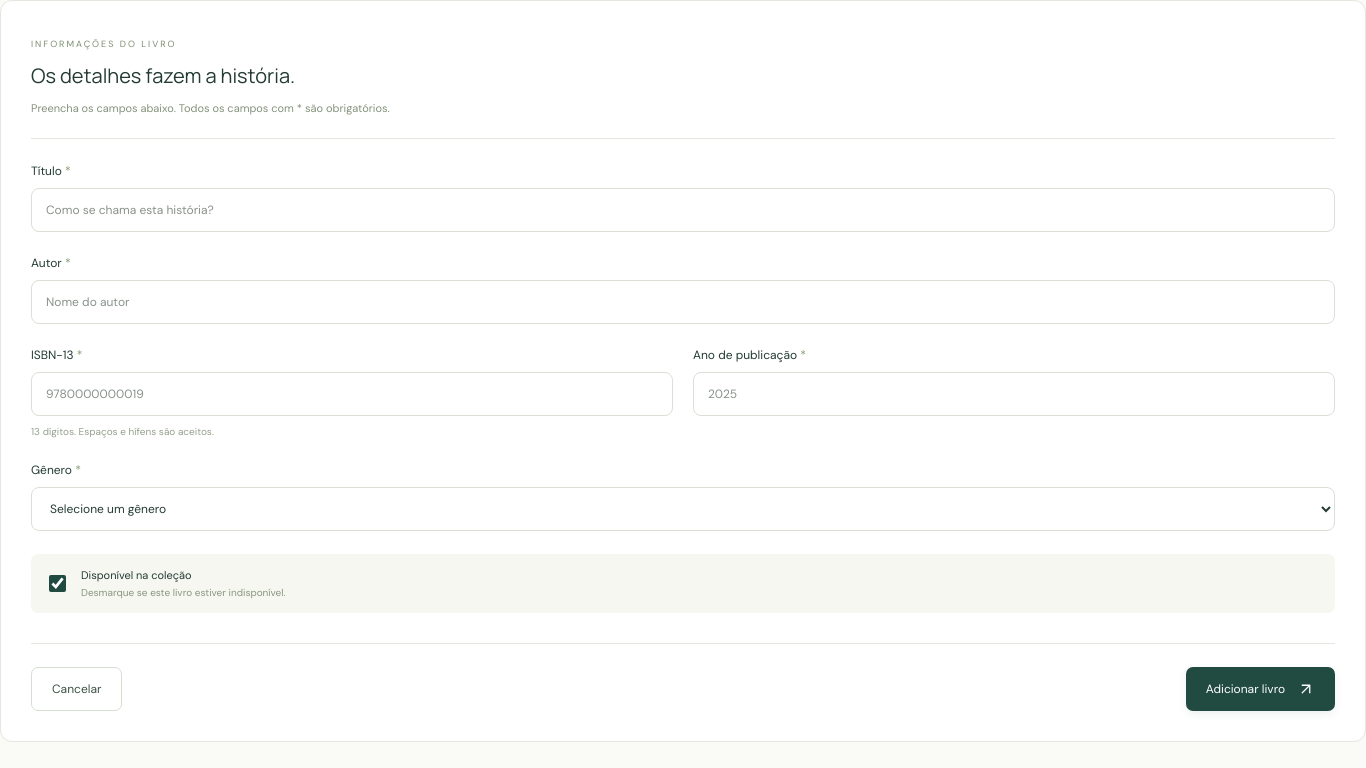
book form › shows validation and prevents an invalid submission
What coordinates should you click on to do the following:
click the button "Adicionar livro"
I would click on:
 (1260, 689)
Its box is [1186, 667, 1335, 711].
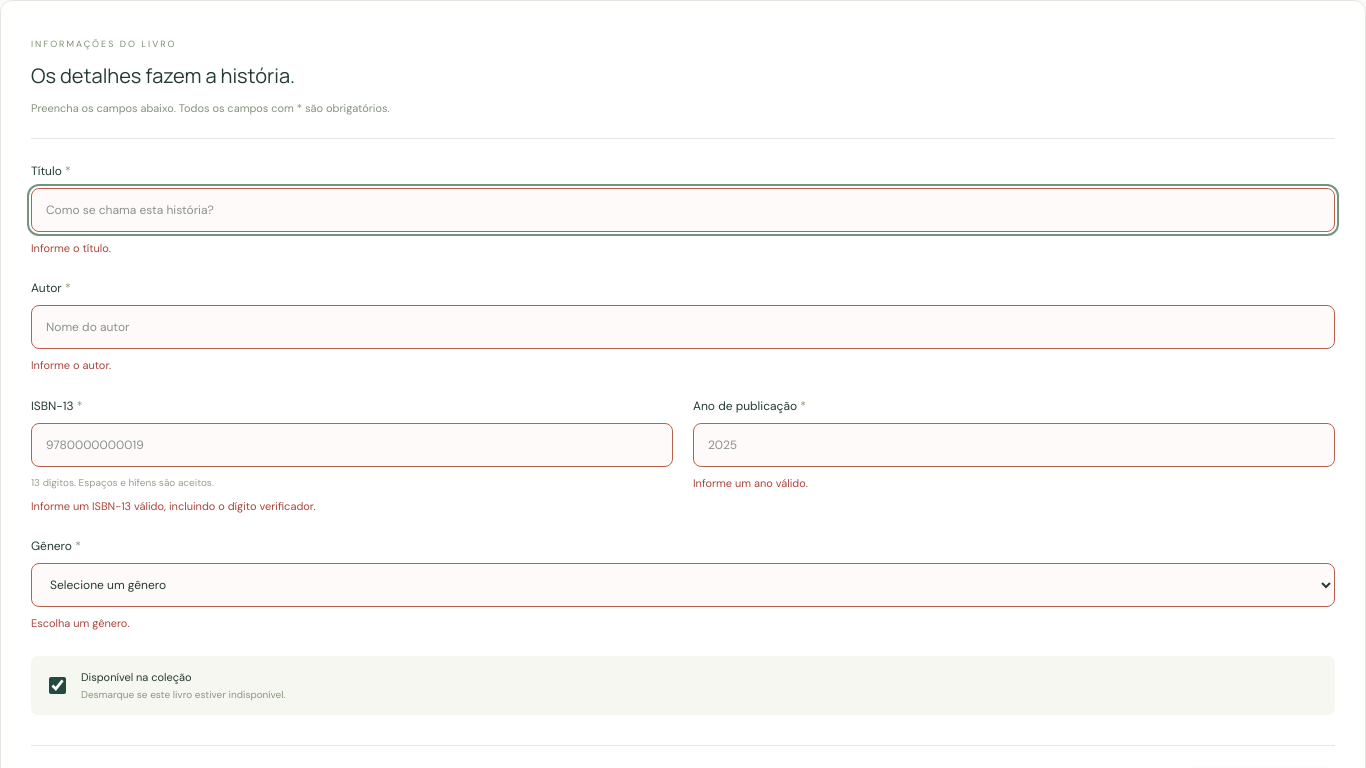
Expected: the text "Informe o título." is shown, [31, 241, 111, 255]
Expected: the text "Informe o autor." is shown, [31, 358, 111, 372]
Expected: the text "Informe um ISBN-13 válido, incluindo o dígito verificador." is shown, [31, 499, 316, 513]
